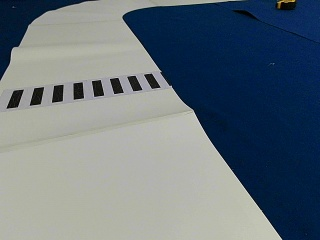crosswalk: (7, 74, 160, 109)
